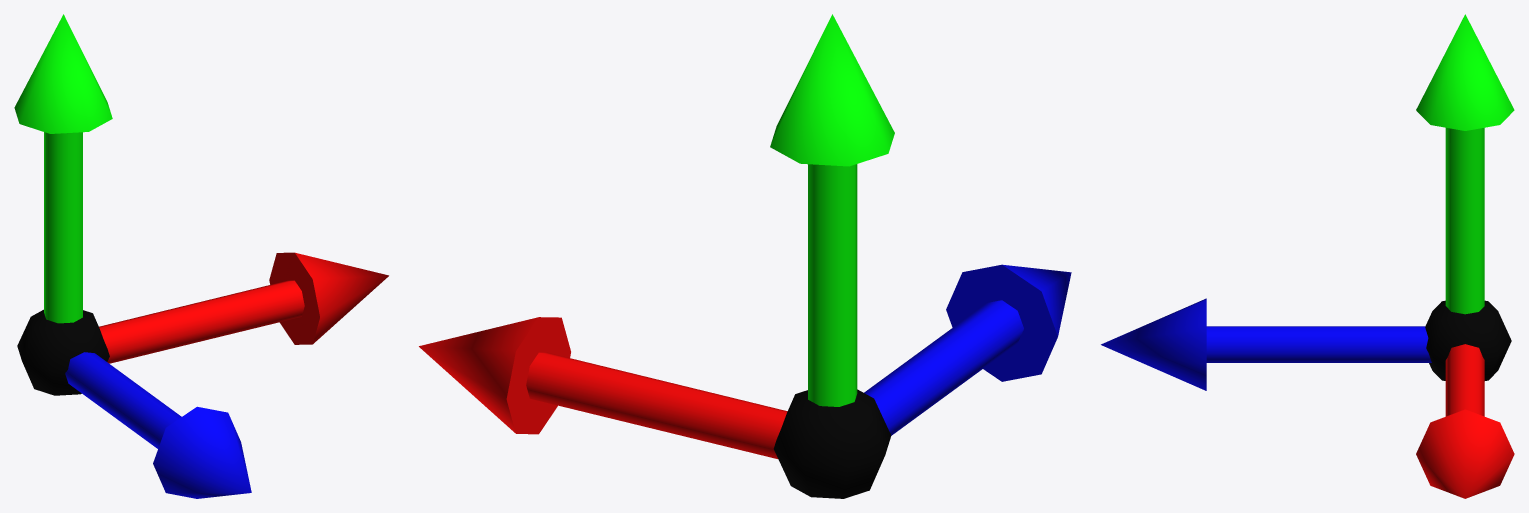
The model's file is coordinates.obj.
3 renders of one model, left to right at view 1: azimuth 30°, elevation 25°; view 2: azimuth 150°, elevation 25°; view 3: azimuth 270°, elevation 25°, orthographic. The views are drawn at different scales.
Parts seen in each view (by area): view 1: polymsh; view 2: polymsh; view 3: polymsh.
Part boxes in pixels (box(x1,y1,x2,y2)): polymsh: box(14, 14, 388, 498); polymsh: box(419, 14, 1071, 498); polymsh: box(1101, 14, 1514, 498).
Bounding box in the file's own units: 3.39 × 3.39 × 3.39.
